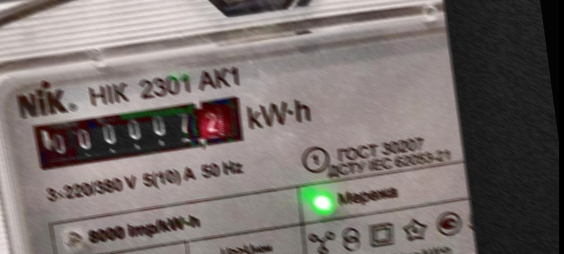0: (50, 129, 67, 155), (125, 116, 142, 141), (101, 120, 117, 145), (150, 112, 166, 136), (75, 126, 91, 149)
2: (203, 109, 219, 133)
7: (176, 109, 191, 134)
screen: (21, 84, 255, 179)
